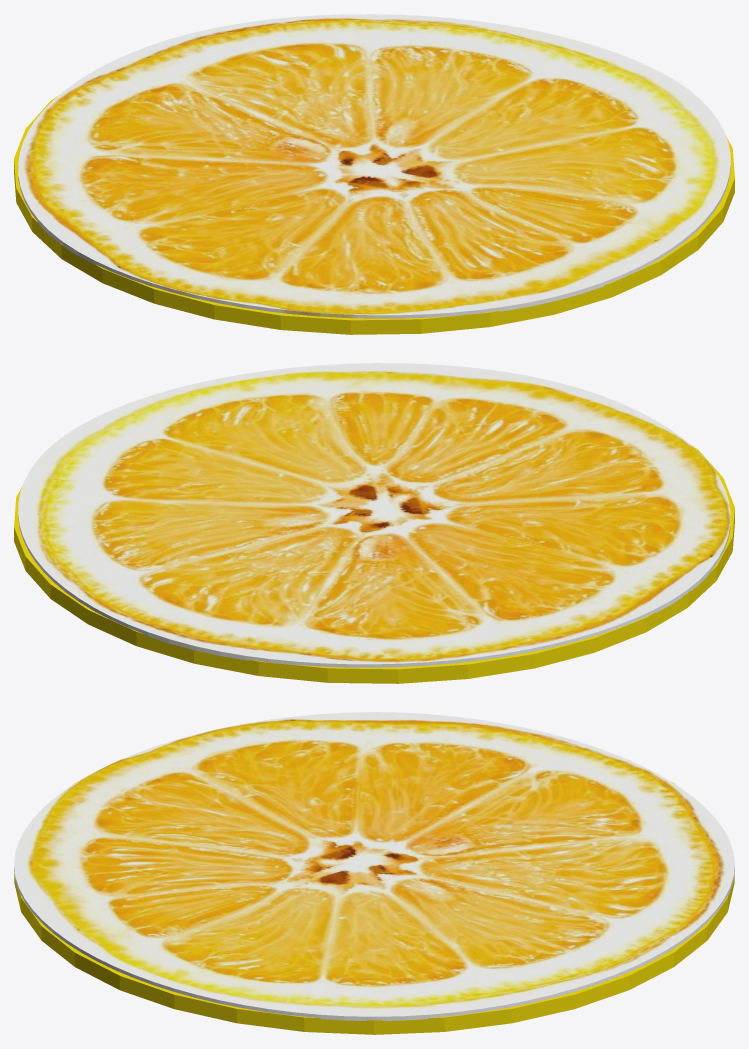
File: citroenschijf_obj.obj
The picture shows the model from 3 angles, top to bottom: view 1: azimuth 30°, elevation 25°; view 2: azimuth 150°, elevation 25°; view 3: azimuth 270°, elevation 25°; orthographic projection.
Parts seen in each view (by area): view 1: citroenschijf_texture; view 2: citroenschijf_texture; view 3: citroenschijf_texture.
Part boxes in pixels (x1=…): citroenschijf_texture: x1=14, y1=14, x2=734, y2=334; citroenschijf_texture: x1=14, y1=363, x2=734, y2=683; citroenschijf_texture: x1=14, y1=712, x2=734, y2=1034.
Bounding box in the file's own units: 5.98 × 0.1635 × 5.97.
2 materials, 1 textured.
